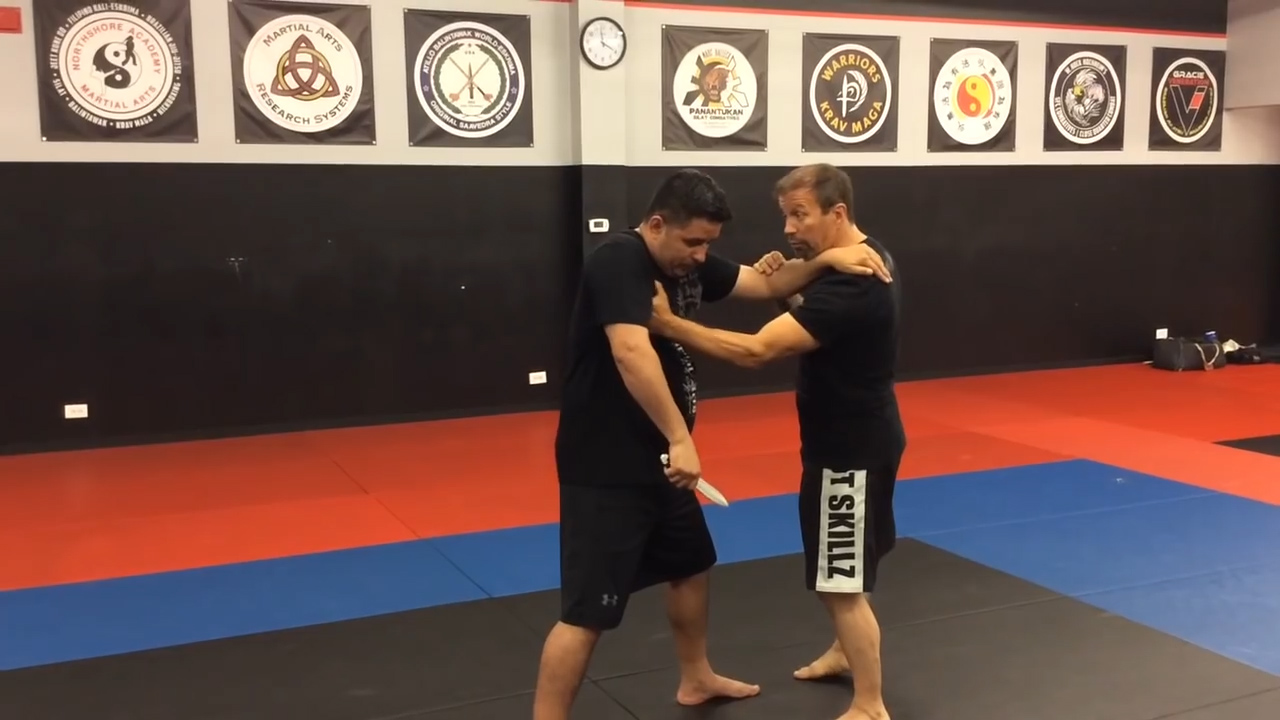knife: (657, 450, 734, 512)
